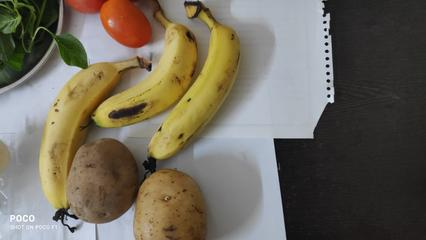banana: (104, 30, 243, 160), (33, 65, 99, 210)
potato: (124, 167, 205, 239), (69, 138, 136, 224)
spinach: (1, 3, 41, 57)
tomato: (99, 5, 157, 41)
